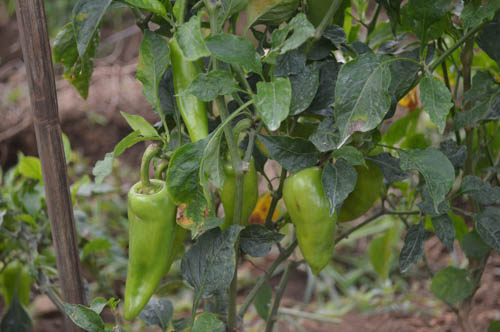ChiliPepper: (125, 186, 173, 322), (281, 165, 335, 282), (168, 37, 211, 147), (336, 159, 388, 222), (217, 159, 252, 239)
